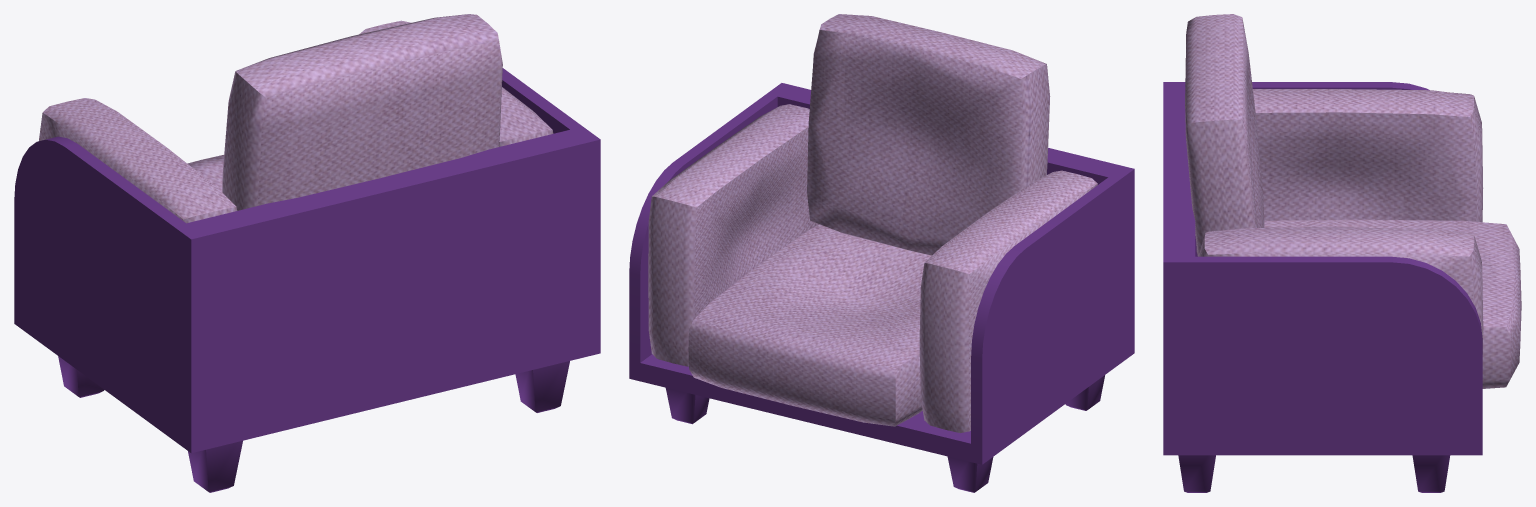
The model's file is furniture_seating_210063.glb.
3 renders of one model, left to right at view 1: azimuth 30°, elevation 25°; view 2: azimuth 150°, elevation 25°; view 3: azimuth 270°, elevation 25°, orthographic. The views are drawn at different scales.
Visible parts, largest first — view 1: furniture_seating_210063; view 2: furniture_seating_210063; view 3: furniture_seating_210063.
Part boxes in pixels (box(x1,y1,x2,y2)): furniture_seating_210063: box(14, 14, 600, 492); furniture_seating_210063: box(629, 14, 1134, 492); furniture_seating_210063: box(1163, 14, 1521, 492).
Size of the model in its own units: 0.9557 by 0.8823 by 0.8029.
1 material, 1 textured.
